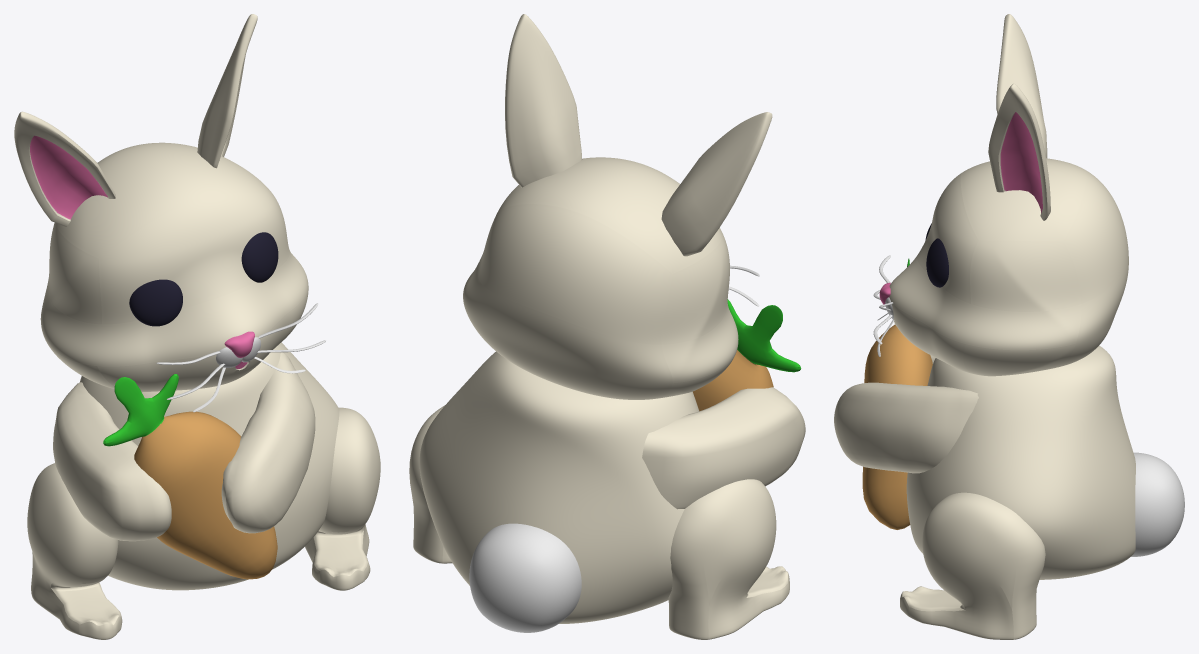
The model's file is conejo.glb.
3 renders of one model, left to right at view 1: azimuth 30°, elevation 25°; view 2: azimuth 150°, elevation 25°; view 3: azimuth 270°, elevation 25°, orthographic. The views are drawn at different scales.
Parts seen in each view (by area): view 1: Cube, Cube.002, Cube.003, Cube.005, Cube.006, Cube.004, Cube.007, Plane.001, Plane, Sphere.002, Sphere, Sphere.001 (+1 smaller); view 2: Cube, Cube.003, Cube.006, Cube.005, Cube.008, Plane, Plane.001, Cube.002, Cube.007; view 3: Cube, Cube.003, Cube.007, Cube.004, Cube.002, Plane, Cube.008, Plane.001, Sphere.
Boxes of the visible parts, x1,y1,x2,y2 form: Cube: (40,142,308,392); Cube.002: (103,374,277,579); Cube.003: (79,342,339,590); Cube.005: (53,382,171,541); Cube.006: (27,463,122,639); Cube.004: (221,352,315,533); Cube.007: (305,407,380,590); Plane.001: (14,111,115,226); Plane: (197,14,257,168); Sphere.002: (129,279,182,326); Sphere: (241,232,278,282); Sphere.001: (216,337,260,367); Cube: (463,157,738,399); Cube.003: (419,351,698,623); Cube.006: (668,479,789,639); Cube.005: (642,387,805,509); Cube.008: (469,523,581,632); Plane: (505,14,582,187); Plane.001: (661,112,772,256); Cube.002: (693,299,801,411); Cube.007: (409,405,452,563); Cube: (889,158,1128,376); Cube.003: (906,345,1135,579); Cube.007: (900,492,1045,639); Cube.004: (834,382,978,473); Cube.002: (862,258,932,529); Plane: (988,83,1050,220); Cube.008: (1131,452,1184,556); Plane.001: (996,14,1047,158); Sphere: (926,238,948,287).
Size of the model in its own units: 3.18 by 4.78 by 2.98.
